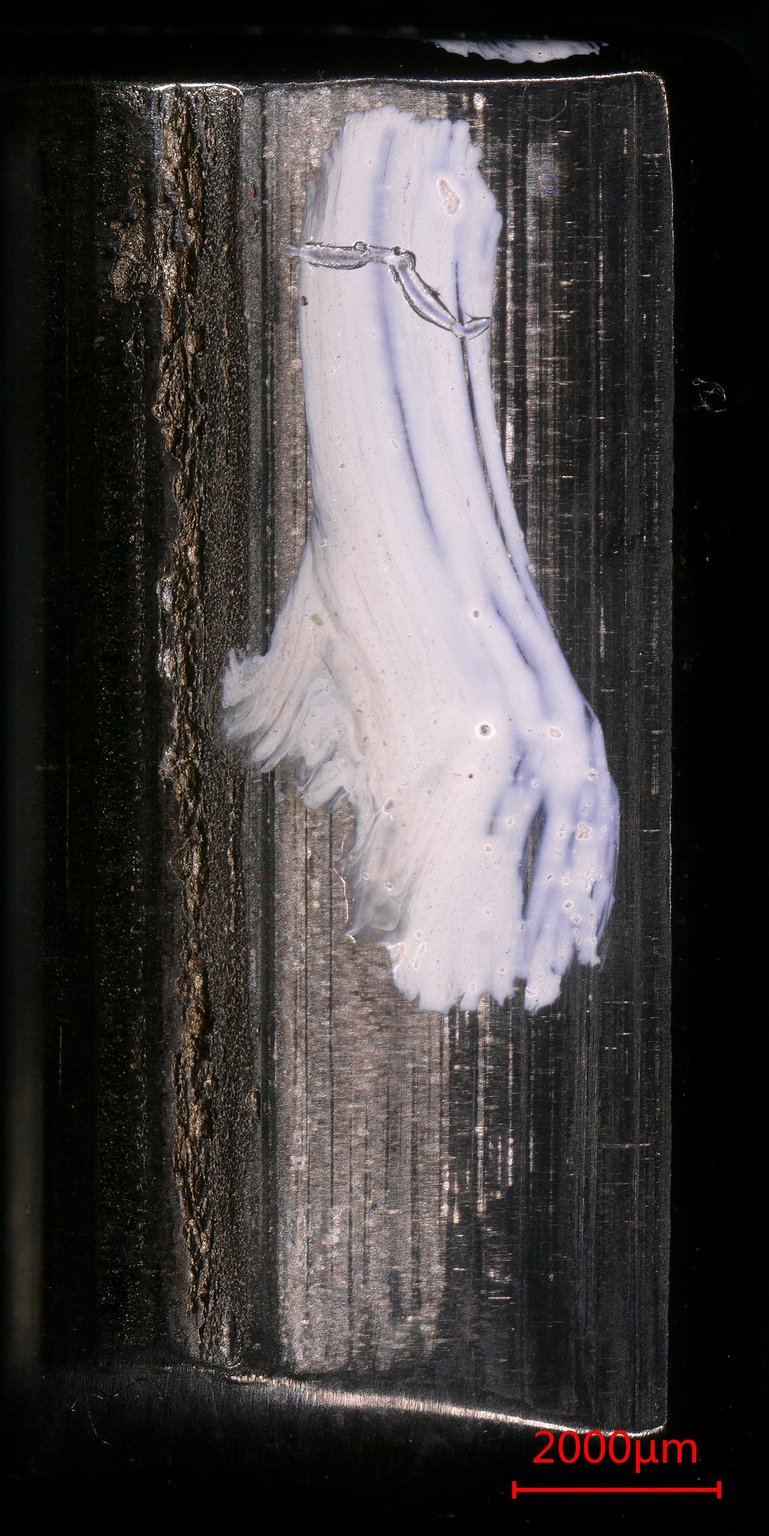Abrasion: (91, 76, 682, 1410)
